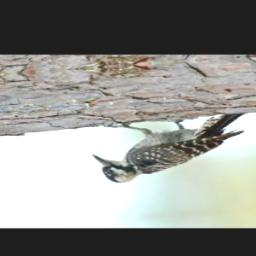Woodpecker: (86, 106, 256, 186)
